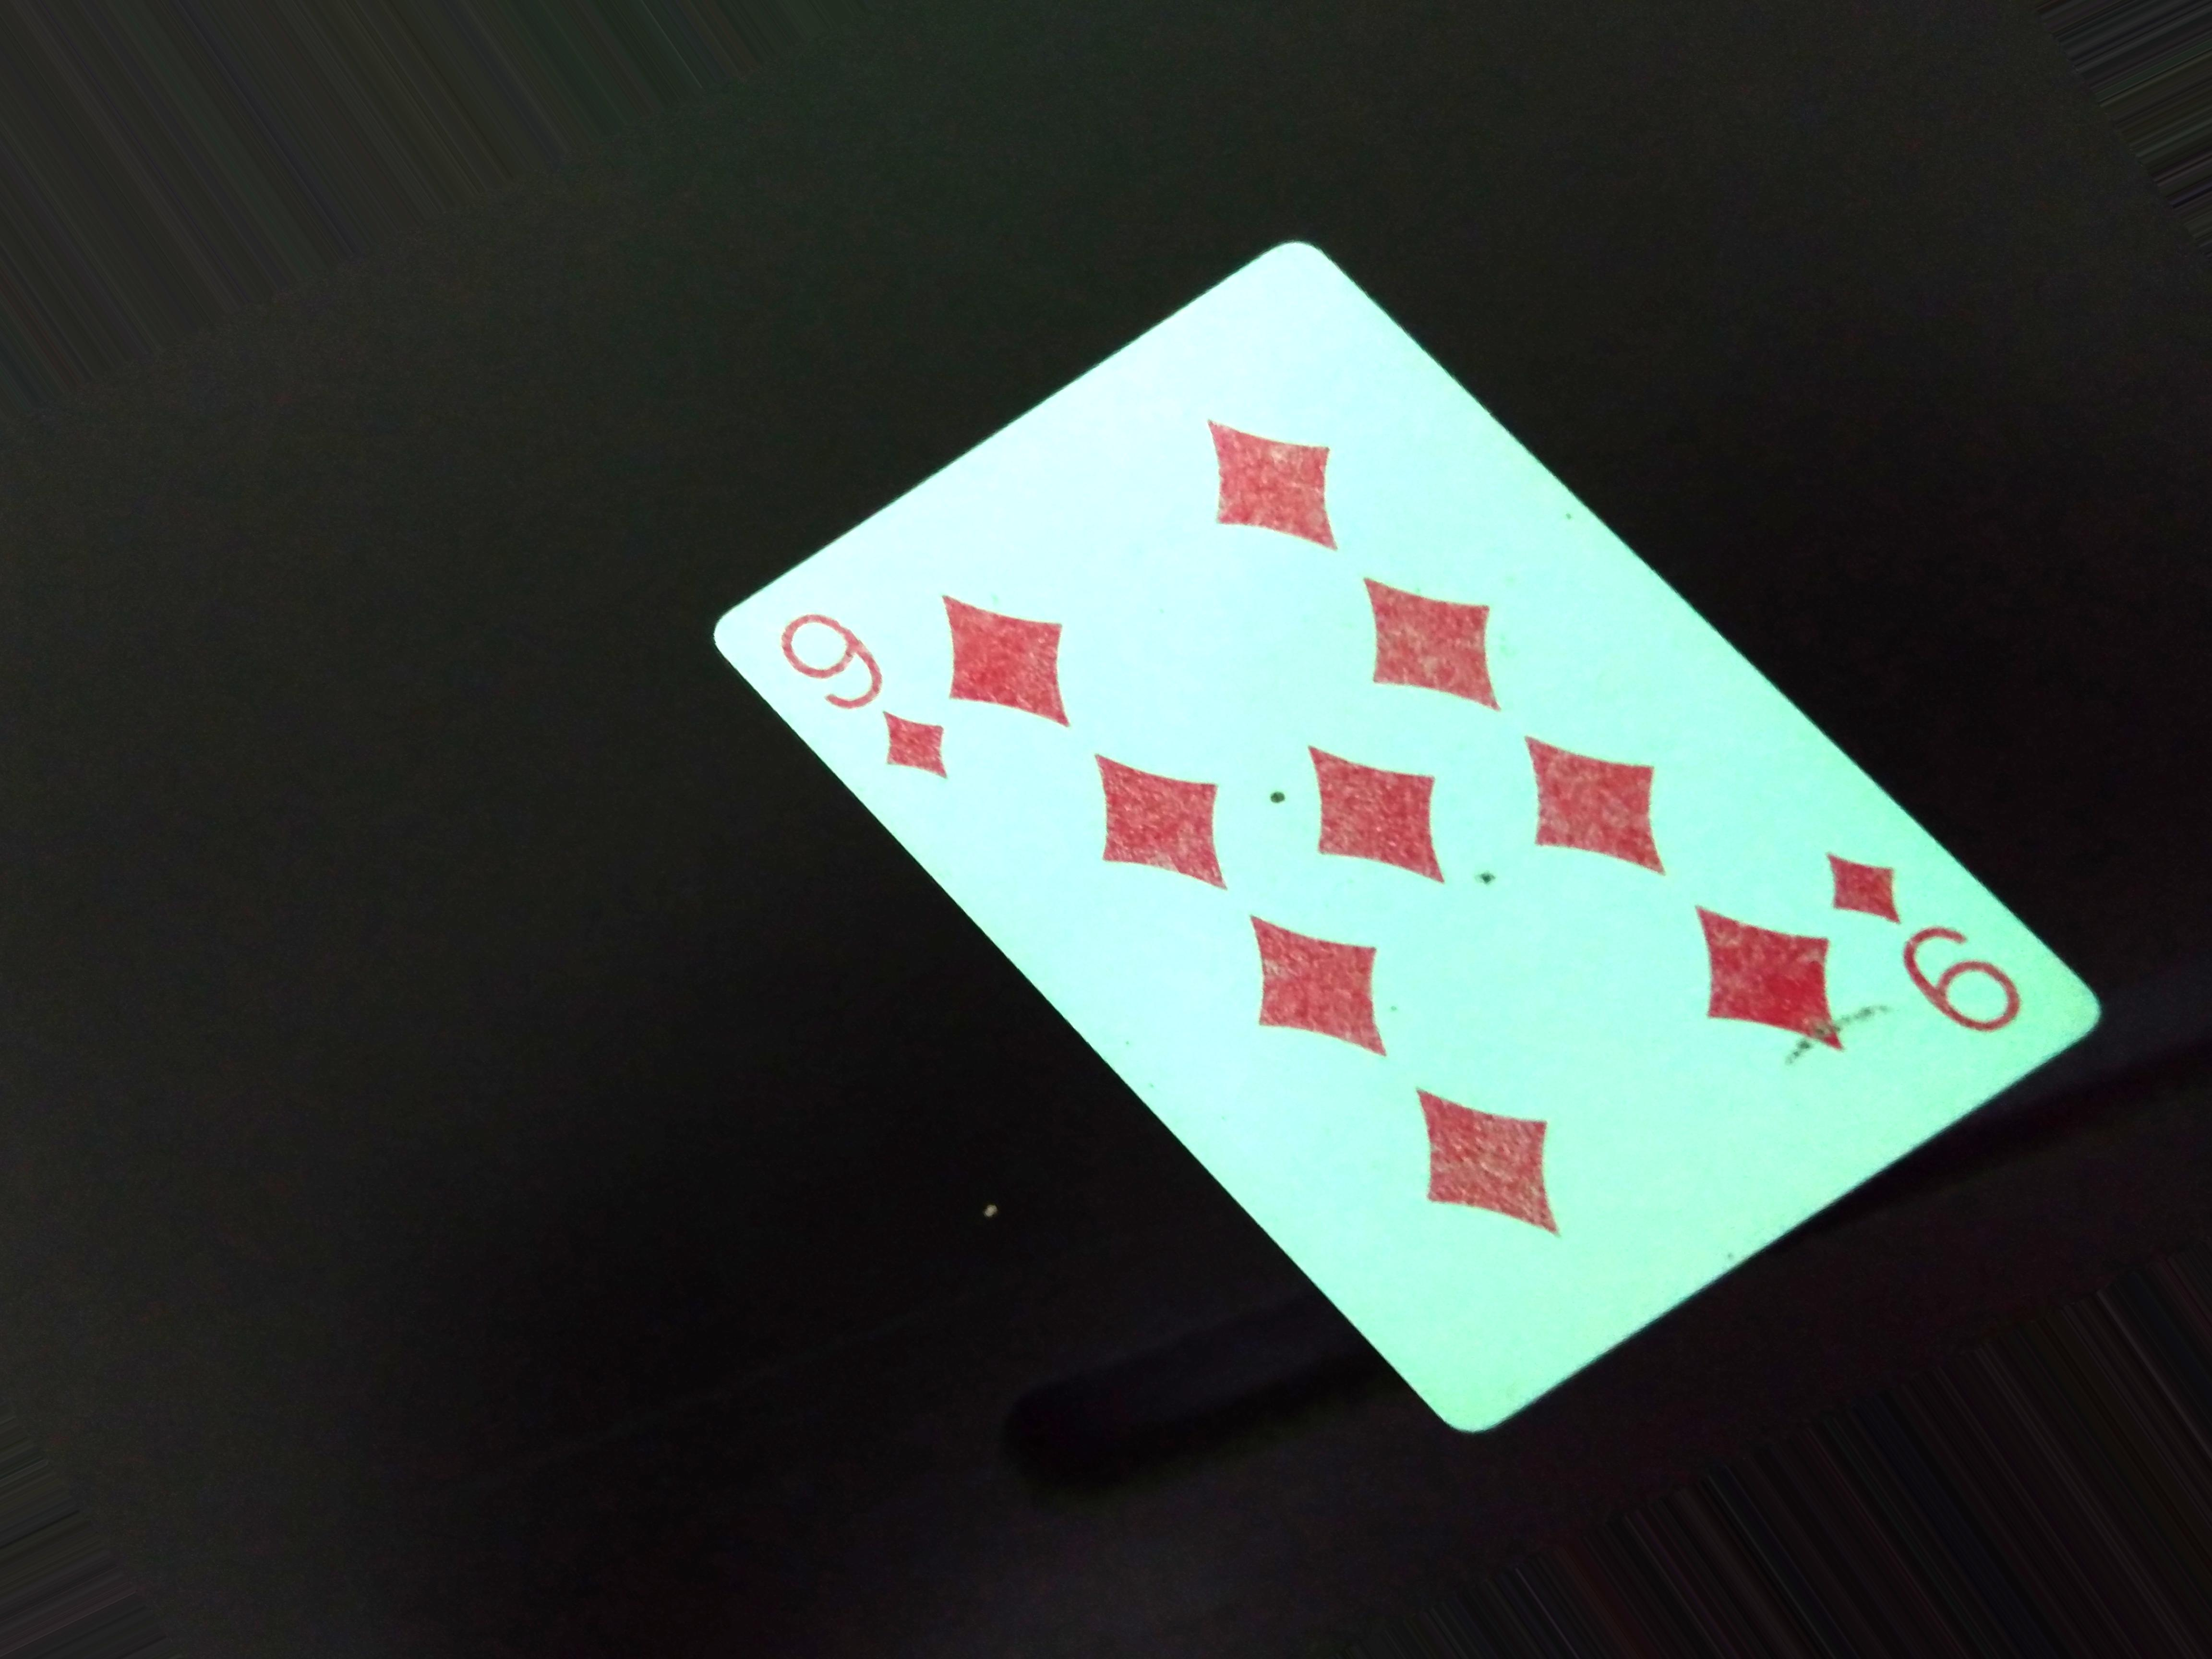9D: (758, 589, 993, 800)
